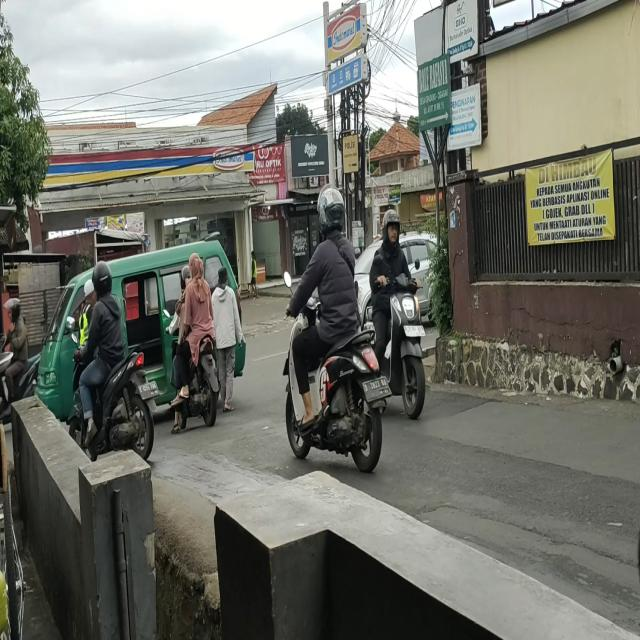helmet: (318, 185, 346, 234), (380, 207, 401, 243), (93, 264, 114, 296), (179, 264, 189, 290)
no-helmet: (188, 253, 203, 282), (6, 298, 22, 322)
